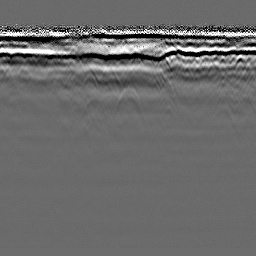cavity: (111, 85, 144, 114)
